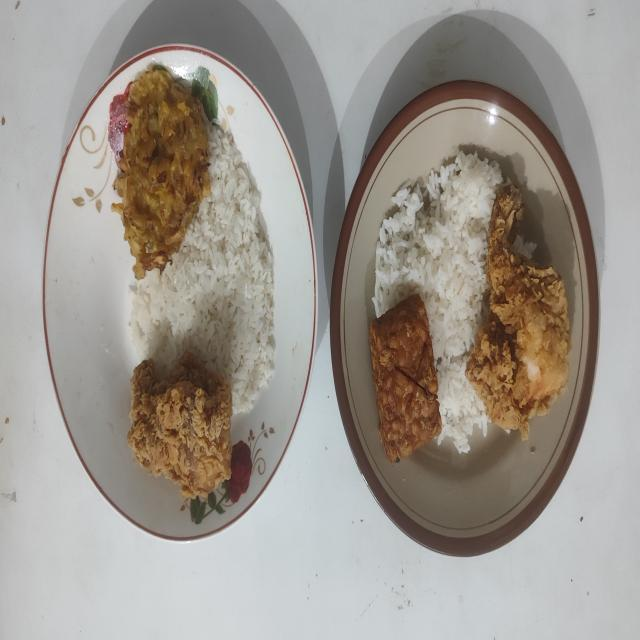nasi_putih: (130, 122, 276, 415), (372, 152, 501, 454)
tempe_goreng: (369, 294, 442, 464)
